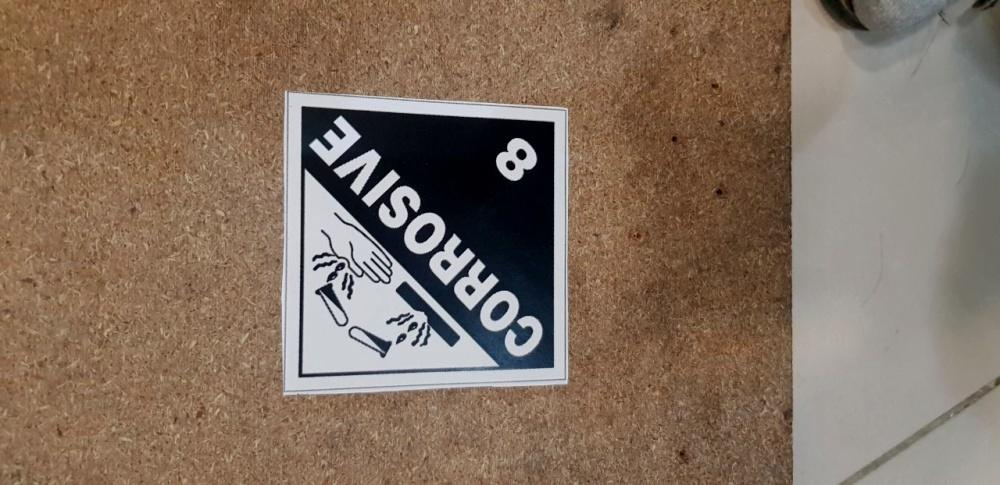corrosive: (281, 90, 568, 393)
